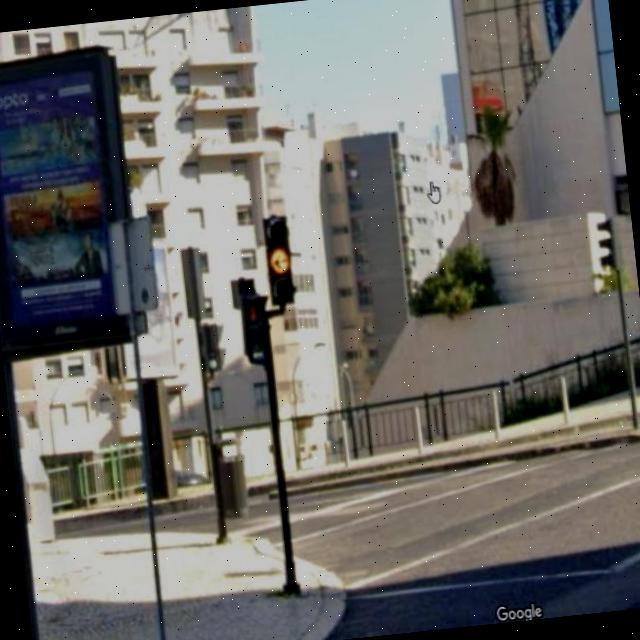yellow_light: (262, 215, 296, 306)
